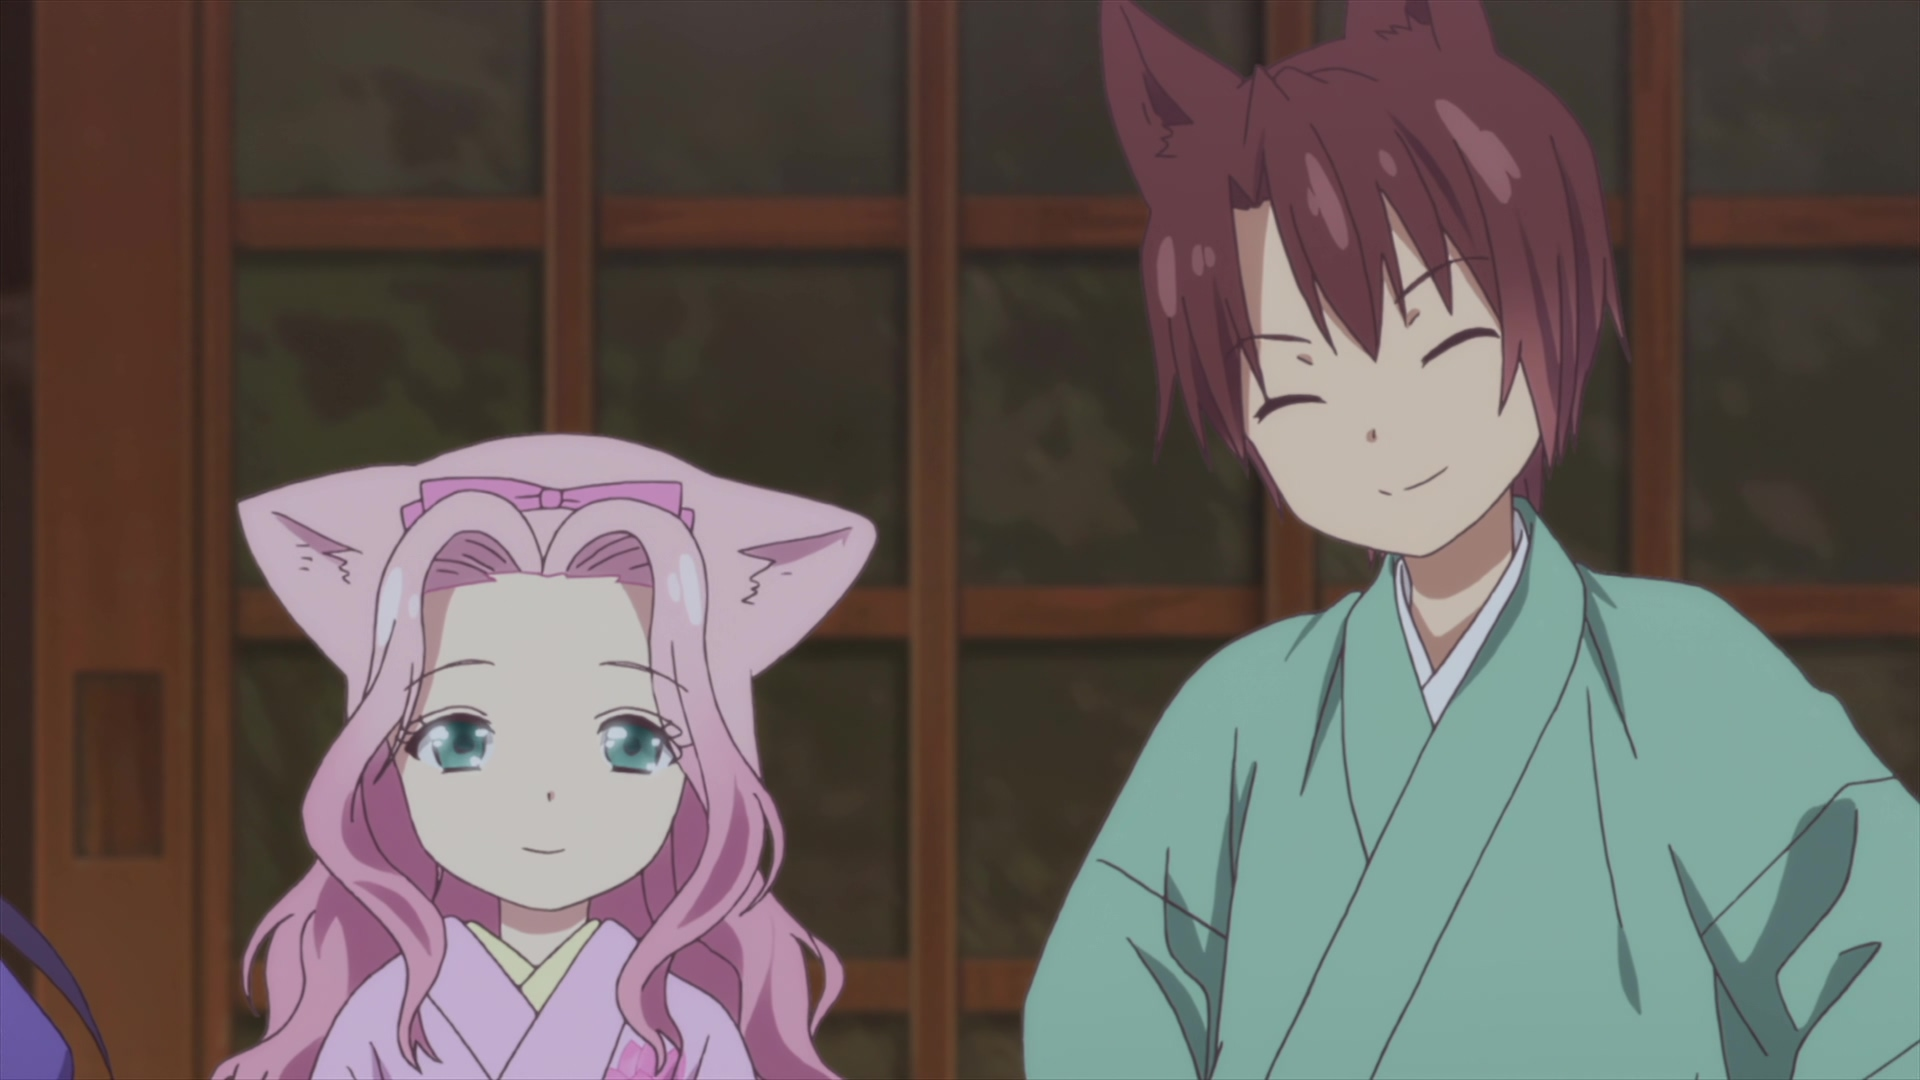枣: (1026, 1, 1920, 1080)
莲: (214, 431, 877, 1080)
